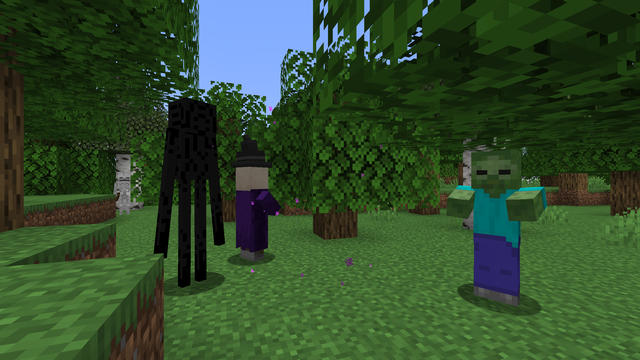endermens: (166, 90, 213, 292)
sorcieres: (236, 162, 268, 263)
squelettes: (114, 171, 134, 214)
zombies: (461, 153, 534, 311)
